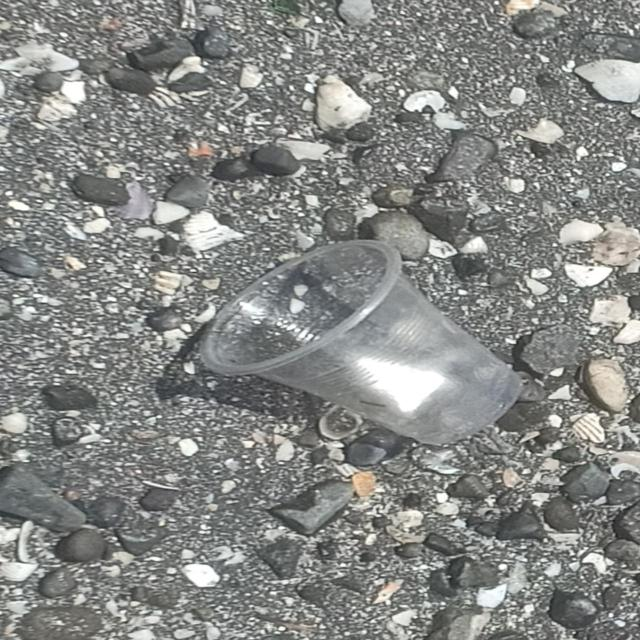plastic_waste: (204, 240, 531, 446)
